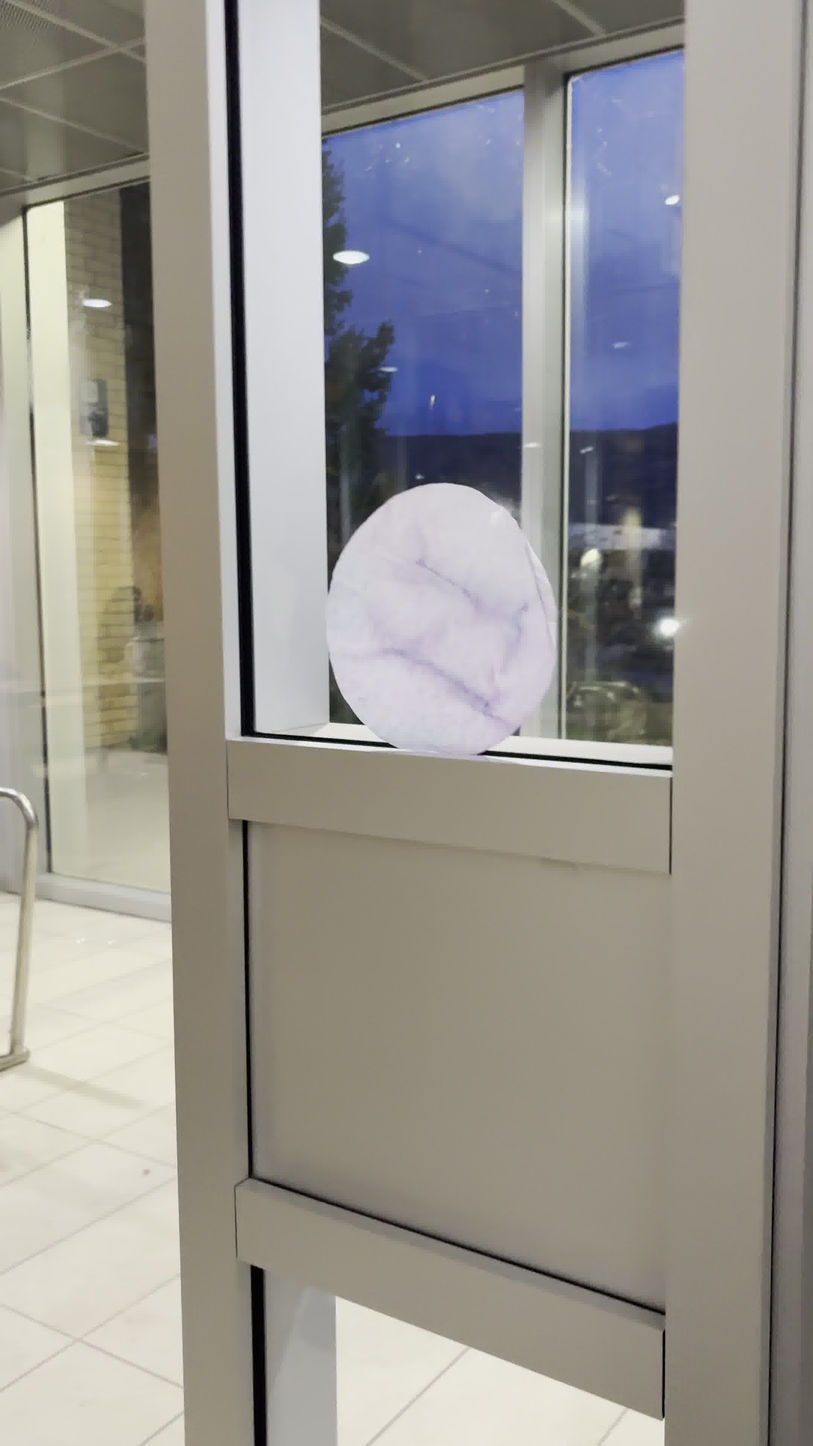Target: (323, 480, 562, 765)
